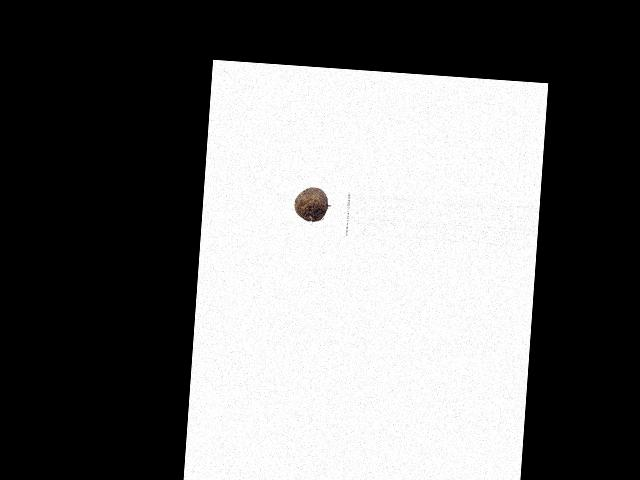beet: (293, 185, 328, 221)
